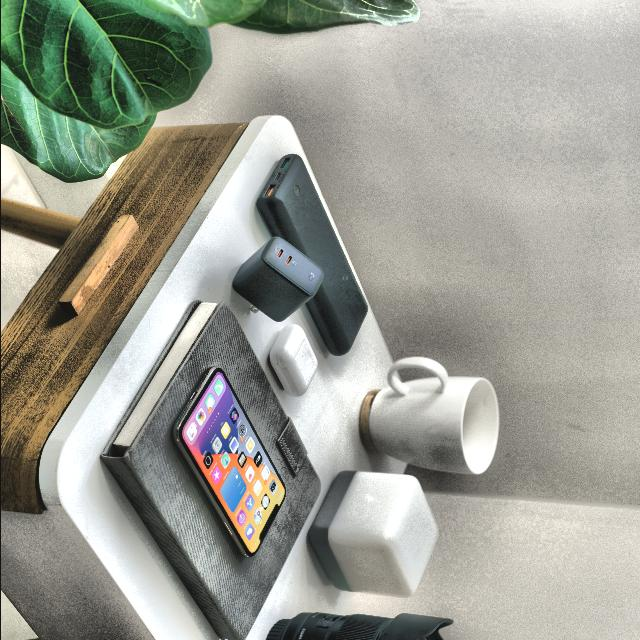Bluetooth headphones: (269, 324, 317, 396)
PHONE: (173, 368, 284, 557)
Power bank: (256, 154, 366, 355)
